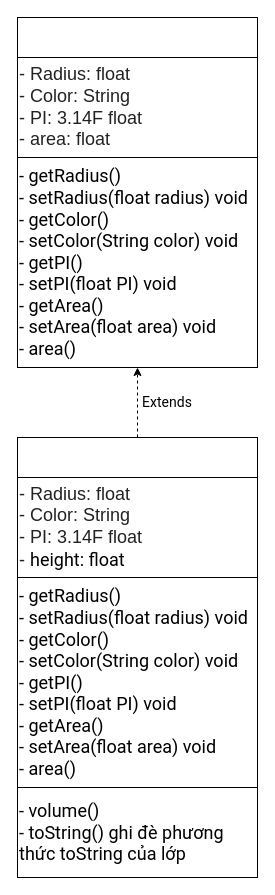
The diagram is 275 pixels wide and 895 high, and some of its shapes have lost their labels. Here are the shapes that lost their labels. From the top down, the centre of each, then its label:
At (x=137, y=37): "Circle (hình tròn)".
At (x=137, y=457): "Cylinder (hình trụ)".
